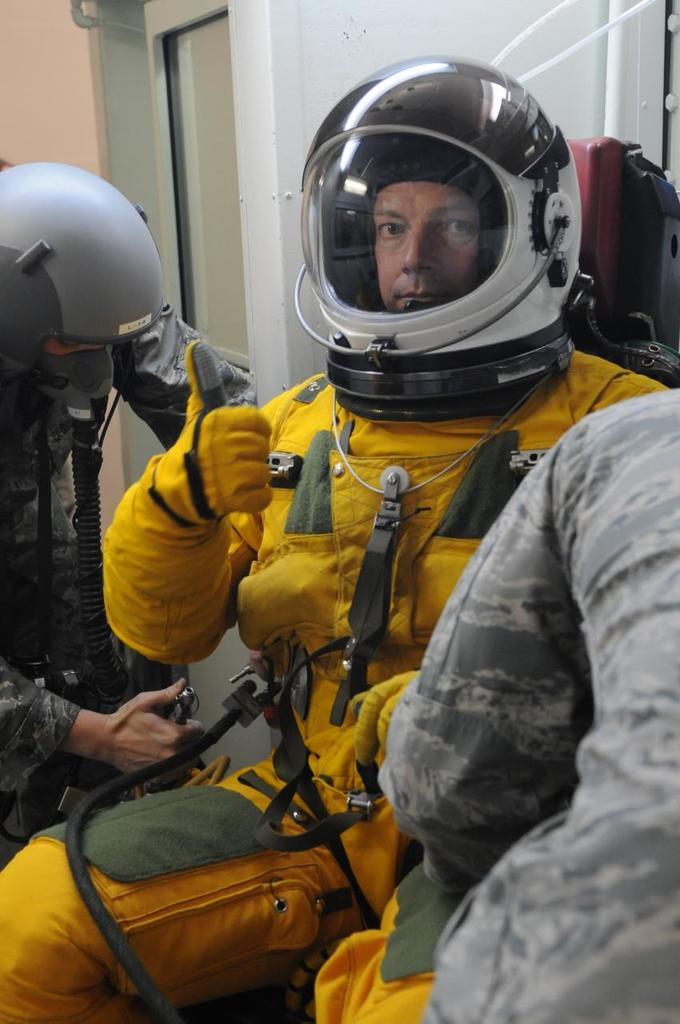Person: (0, 51, 674, 1022), (0, 159, 256, 787)
